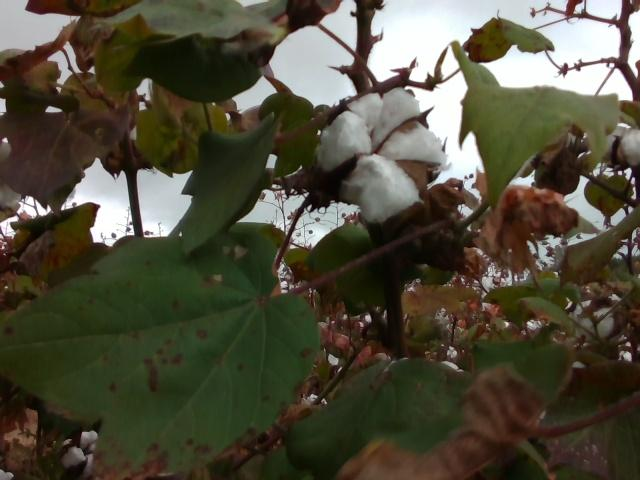cotton_ready: (318, 90, 441, 221), (581, 127, 640, 165), (571, 298, 617, 340), (62, 429, 100, 476)
